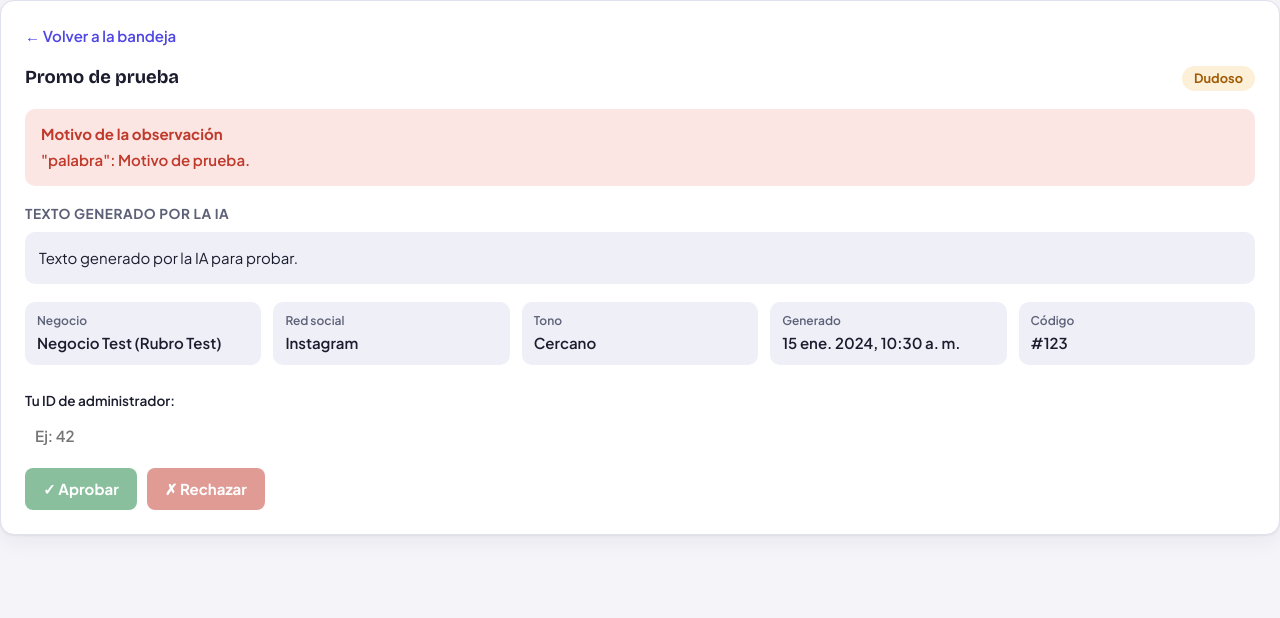
Test: DetalleContenidoView (HU-15) › muestra error si la API falla al aprobar
Type "42" into the number field labelled "Tu ID de administrador:". click: (125, 436)
box: [25, 417, 225, 456]
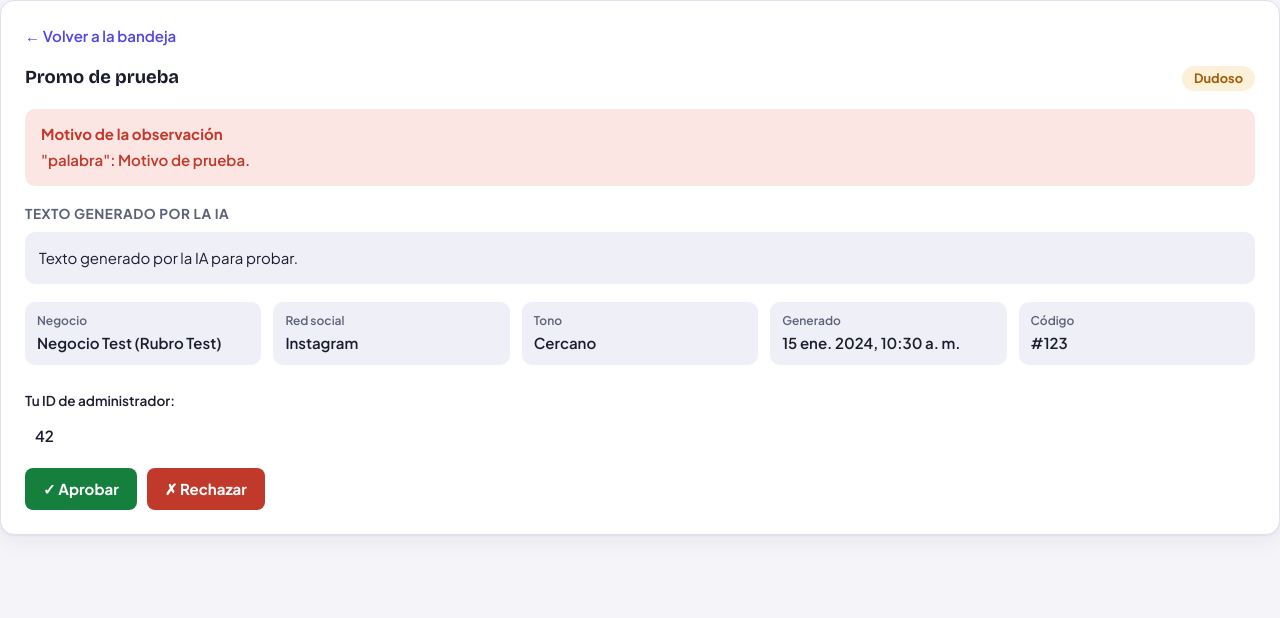
Click the button "✓ Aprobar". click: click(81, 489)
box: [25, 468, 137, 510]
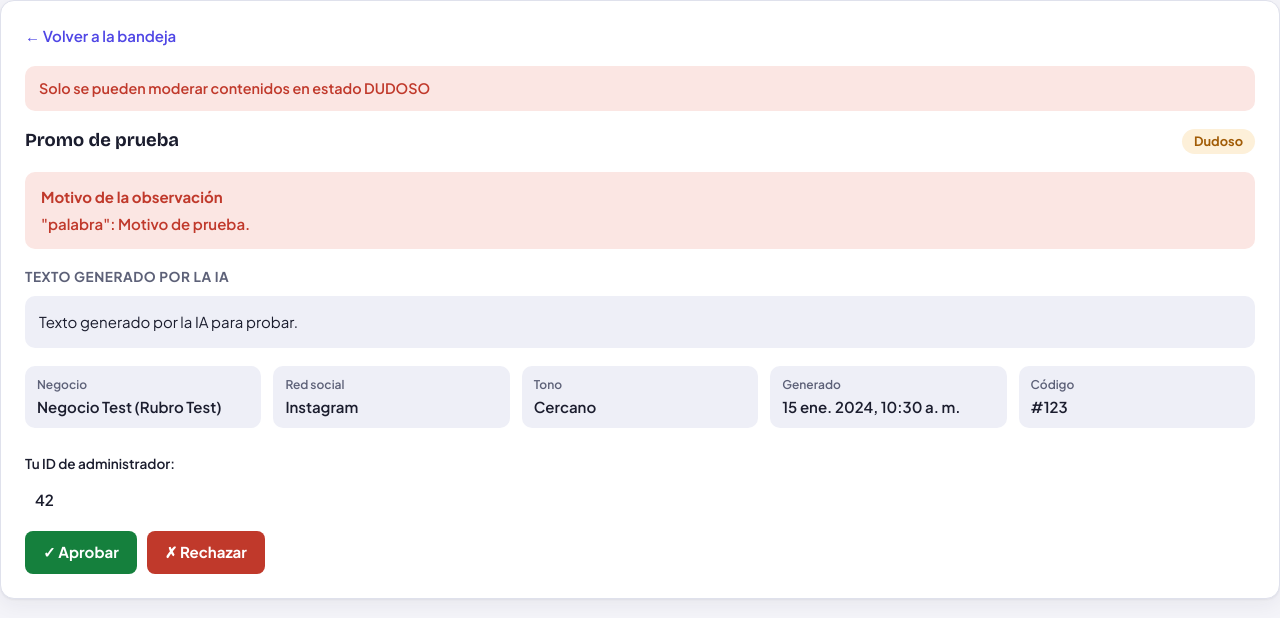
Check: the text "Solo se pueden moderar contenidos en estado DUDOSO" is shown, box [25, 66, 1255, 111]
